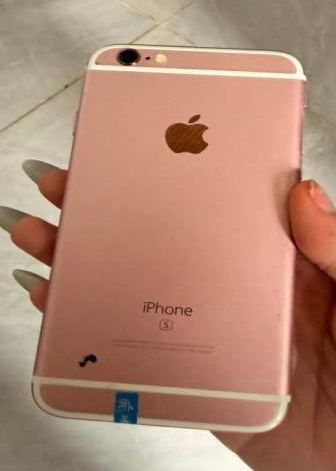scratch: (77, 352, 99, 368), (286, 159, 295, 186), (101, 380, 118, 393), (274, 311, 283, 322), (95, 60, 101, 66), (82, 91, 87, 98)
